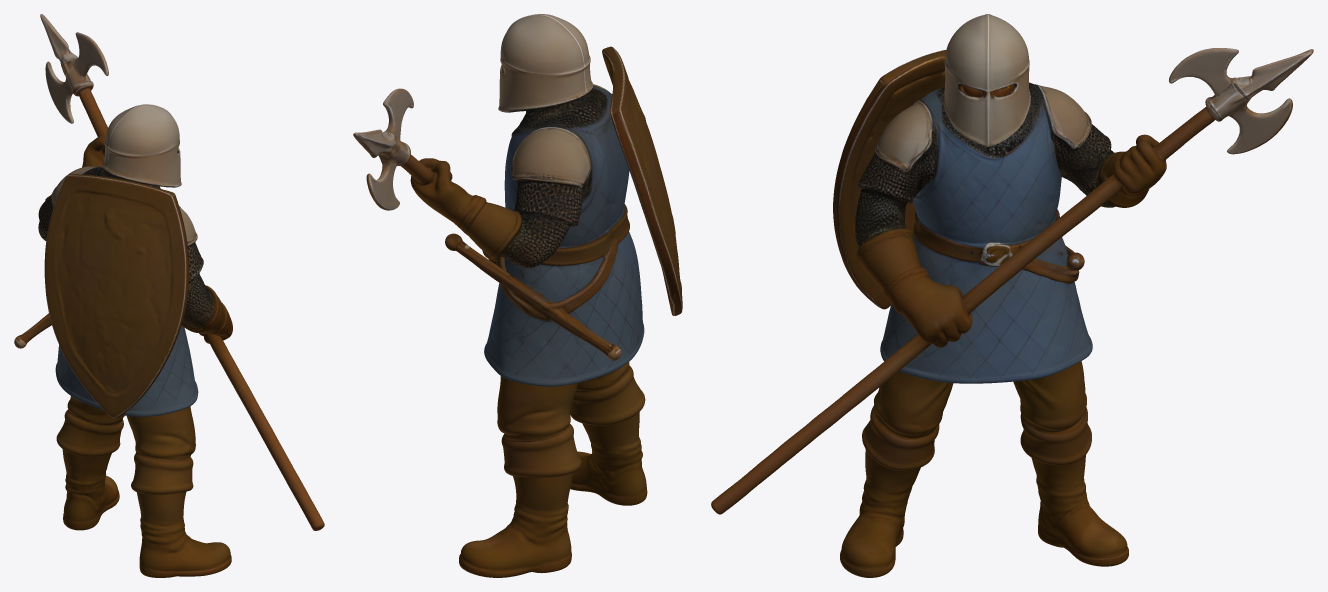
3 views of the same model, side by side, from view 1: azimuth 30°, elevation 25°; view 2: azimuth 150°, elevation 25°; view 3: azimuth 270°, elevation 25° (orthographic). The views are drawn at different scales.
Visible parts, largest first — view 1: tripo_node_234b8ba8-94d2-4081-a403-89f078dd8c1e; view 2: tripo_node_234b8ba8-94d2-4081-a403-89f078dd8c1e; view 3: tripo_node_234b8ba8-94d2-4081-a403-89f078dd8c1e.
Part boxes in pixels (x1,y1,x2,y2): tripo_node_234b8ba8-94d2-4081-a403-89f078dd8c1e: (14,14,324,577); tripo_node_234b8ba8-94d2-4081-a403-89f078dd8c1e: (353,14,682,577); tripo_node_234b8ba8-94d2-4081-a403-89f078dd8c1e: (711,14,1313,577).
Size of the model in its own units: 0.4118 by 0.9899 by 1.
Materials: 1 (1 with a texture image).
